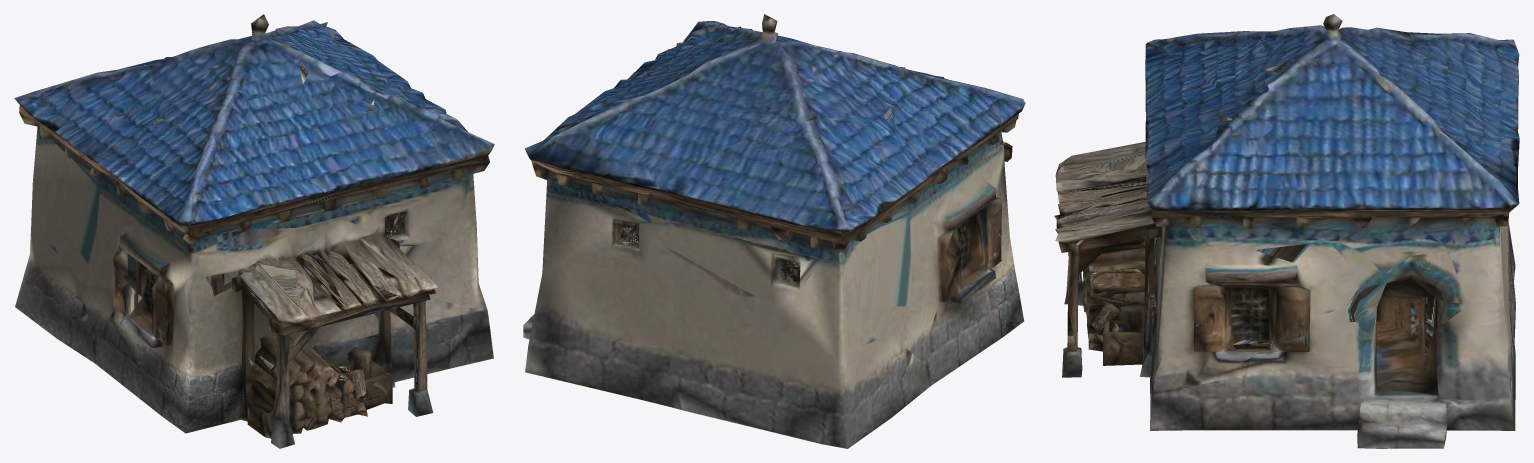
File: house_cottage_2.glb
3 renders of one model, left to right at view 1: azimuth 30°, elevation 25°; view 2: azimuth 150°, elevation 25°; view 3: azimuth 270°, elevation 25°, orthographic. The views are drawn at different scales.
Parts seen in each view (by area): view 1: tripo_node_f4536328-5a8a-4b85-a494-a01f031eb54b; view 2: tripo_node_f4536328-5a8a-4b85-a494-a01f031eb54b; view 3: tripo_node_f4536328-5a8a-4b85-a494-a01f031eb54b.
Part boxes in pixels (x1,y1,x2,y2): tripo_node_f4536328-5a8a-4b85-a494-a01f031eb54b: (14,14,494,448); tripo_node_f4536328-5a8a-4b85-a494-a01f031eb54b: (523,14,1025,448); tripo_node_f4536328-5a8a-4b85-a494-a01f031eb54b: (1054,14,1519,448).
Size of the model in its own units: 0.9139 by 0.7921 by 0.9783.
Materials: 1 (1 with a texture image).
